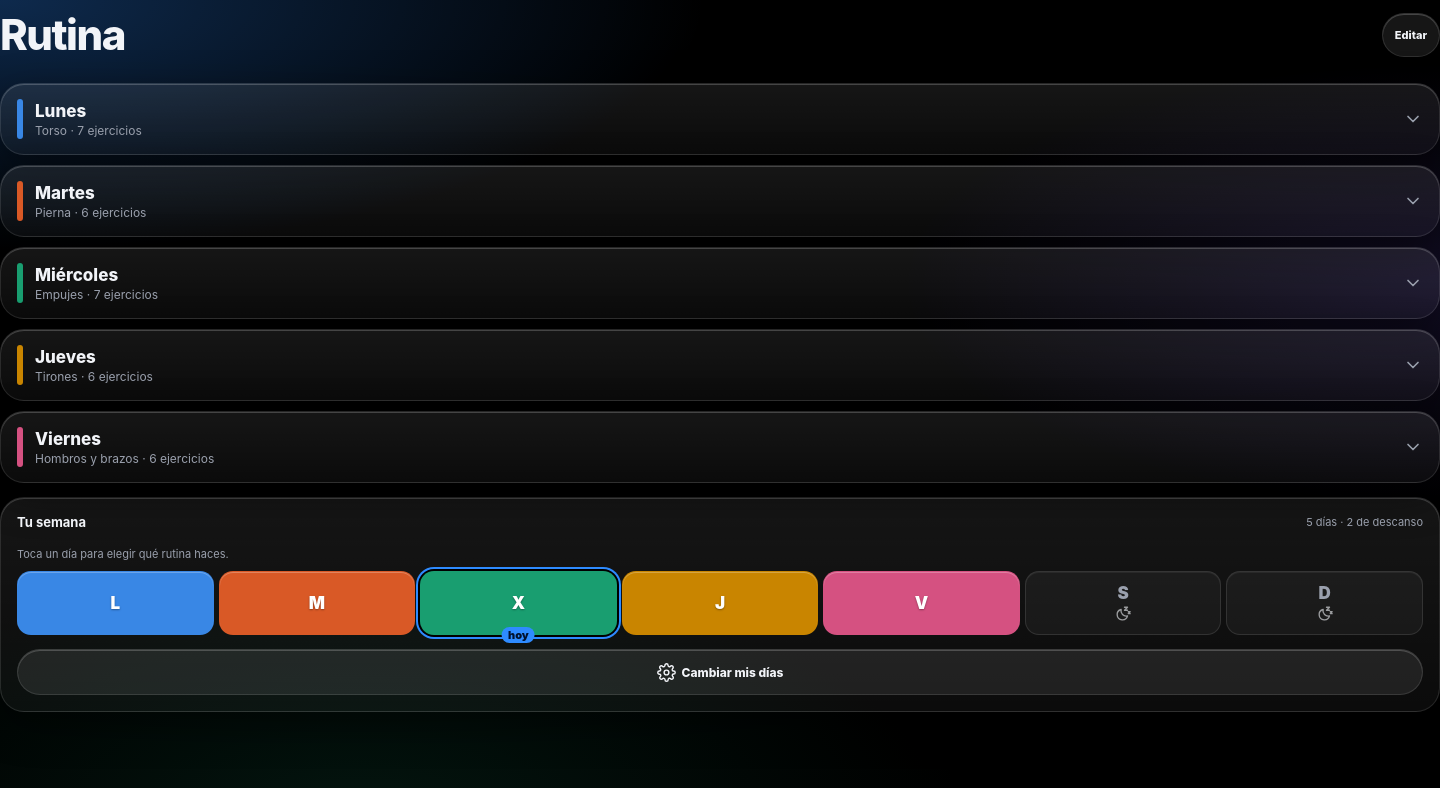
Test: Rutina · eliminar un ejercicio con registros › al confirmar se elimina
Click the button "Editar" at (1411, 35), box [1382,13,1439,57]
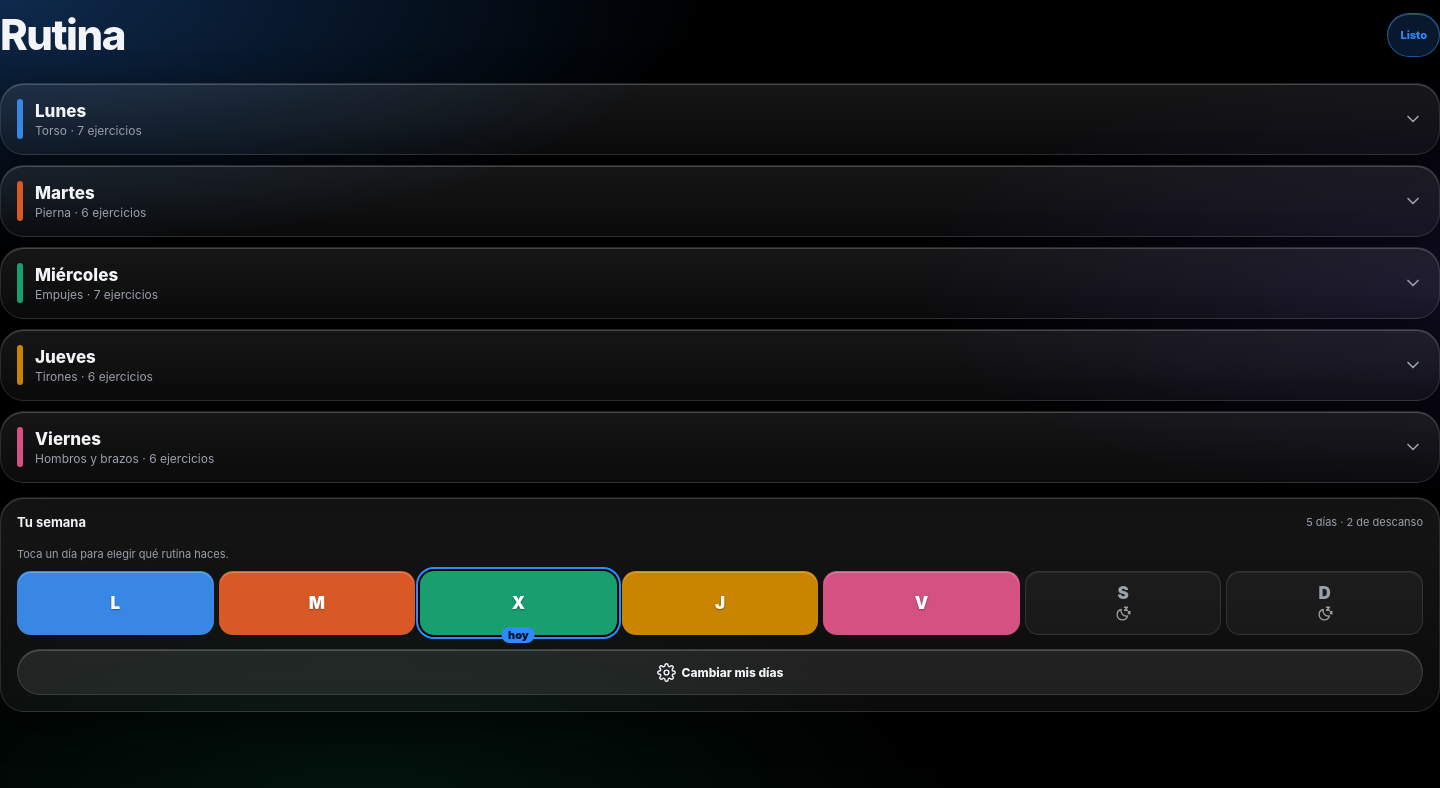
Click the button "Lunes Torso · 7 ejercicios" at (61, 110), box [1,84,1439,154]
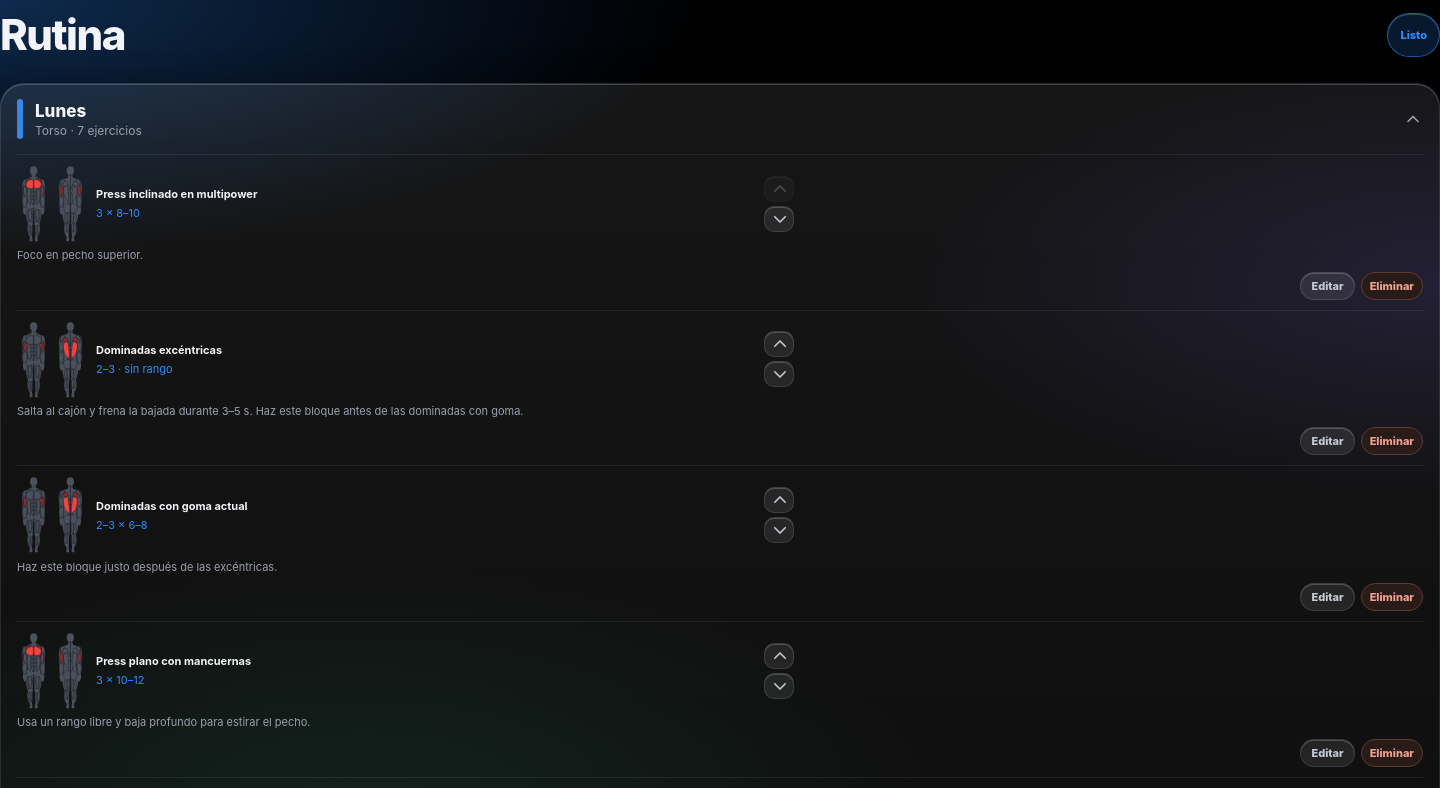
Click the 1st button "Eliminar" at (1392, 286), box [1361,272,1423,300]
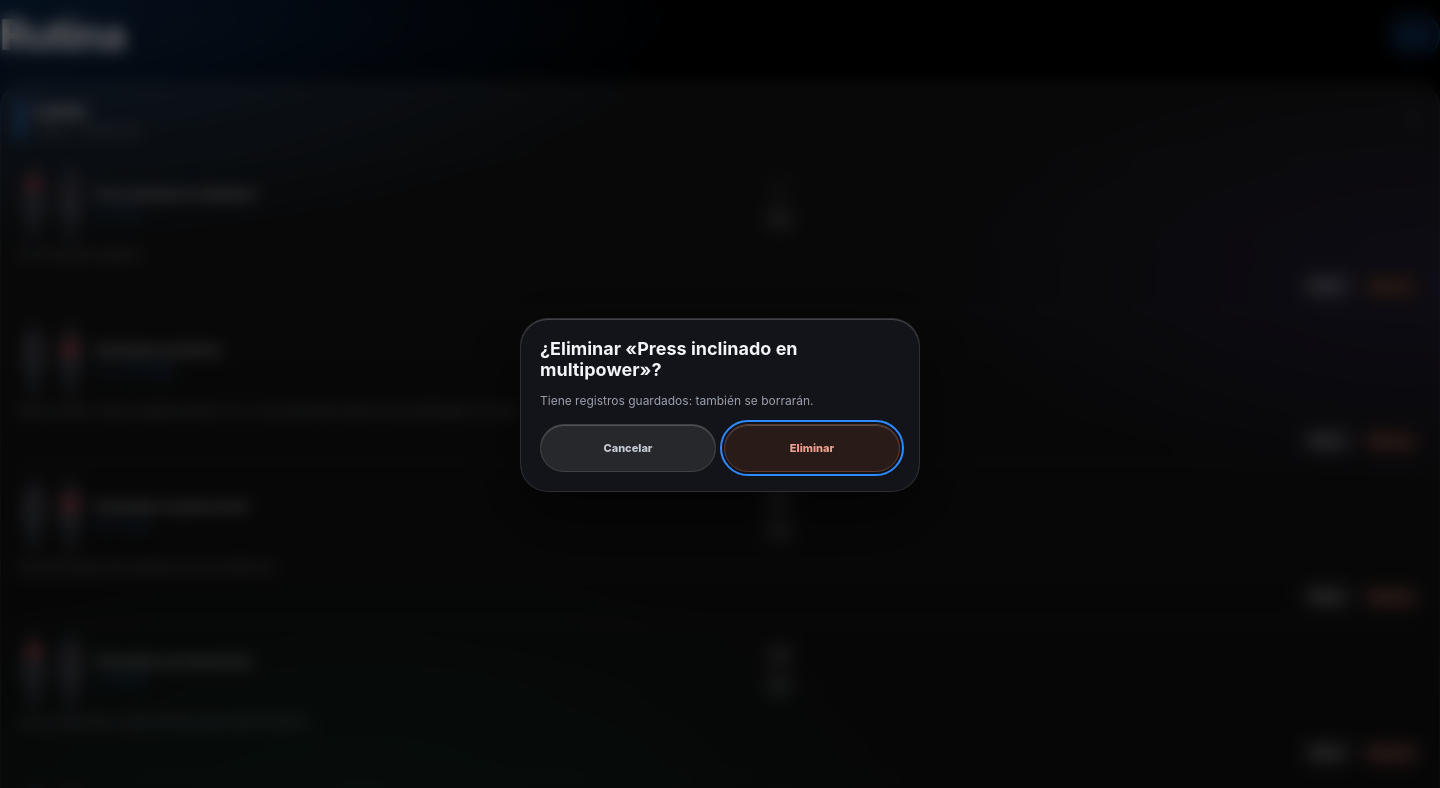
Click the button "Eliminar" at (812, 448), box [724,424,900,472]
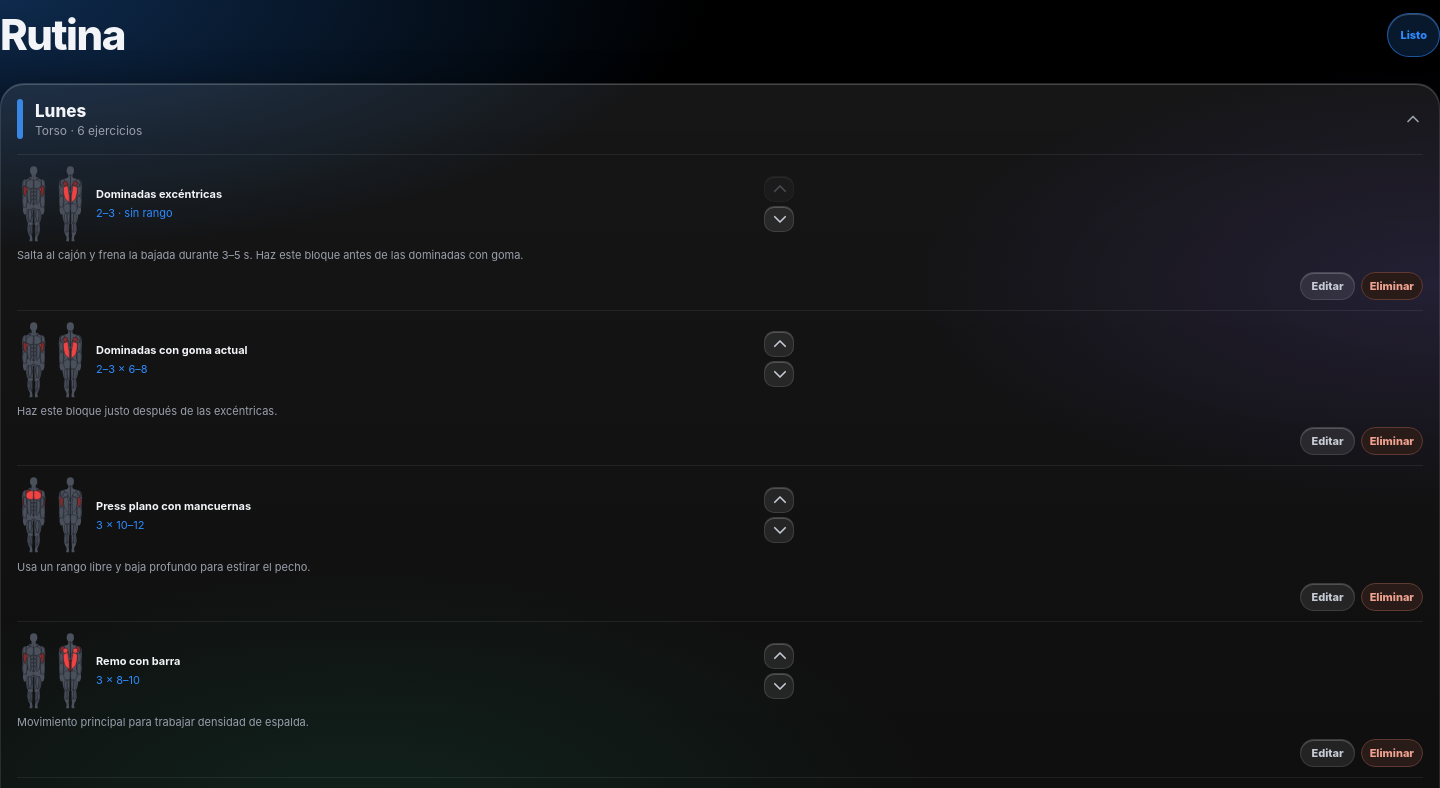
Result: the text "Press inclinado en multipower" is gone
